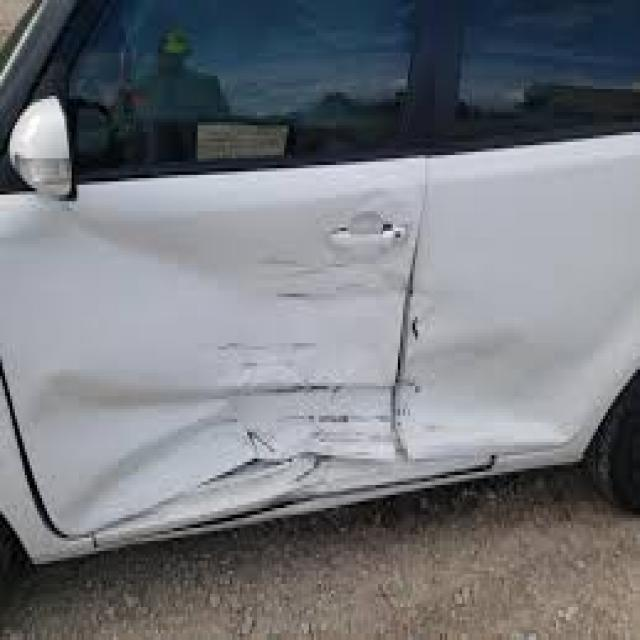damaged-door: (0, 4, 427, 538)
